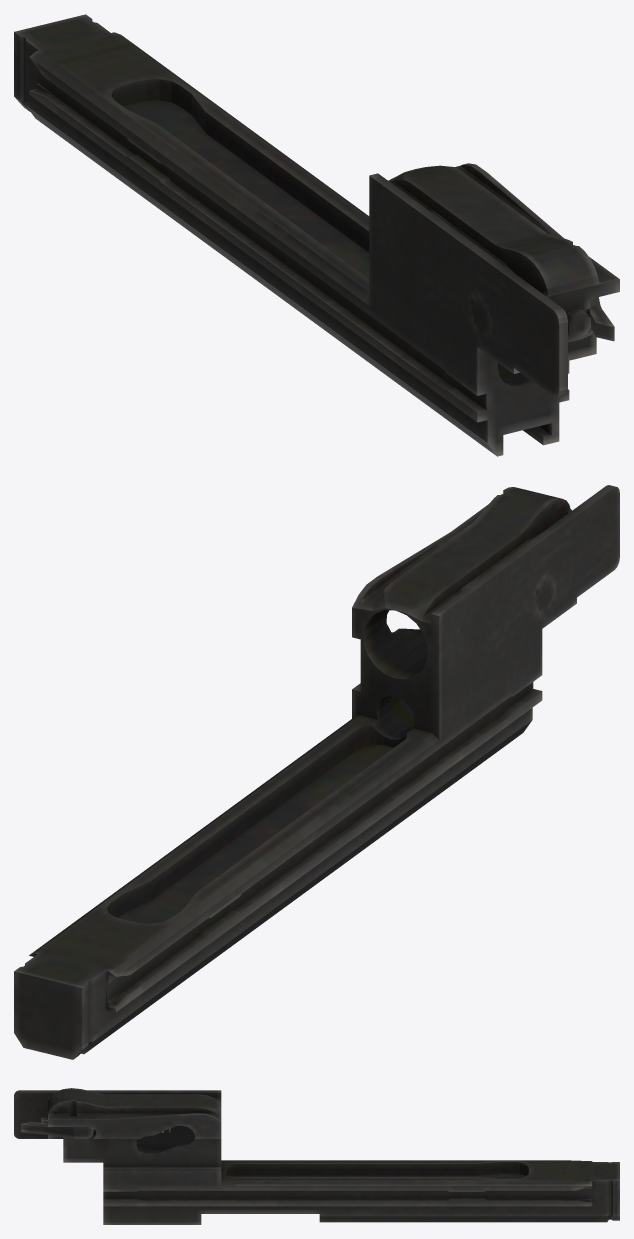
The picture shows the model from 3 angles, top to bottom: view 1: azimuth 30°, elevation 25°; view 2: azimuth 150°, elevation 25°; view 3: azimuth 270°, elevation 25°; orthographic projection. The views are drawn at different scales.
Parts seen in each view (by area): view 1: TW_5ba26383d4351e00334c93d9_PZ_Import; view 2: TW_5ba26383d4351e00334c93d9_PZ_Import; view 3: TW_5ba26383d4351e00334c93d9_PZ_Import.
Part boxes in pixels (x1,y1,x2,y2): TW_5ba26383d4351e00334c93d9_PZ_Import: (14,14,619,456); TW_5ba26383d4351e00334c93d9_PZ_Import: (14,485,619,1059); TW_5ba26383d4351e00334c93d9_PZ_Import: (14,1088,619,1224).
Bounding box in the file's own units: 0.0103 × 0.1077 × 0.0236.
Materials: 1 (1 with a texture image).
